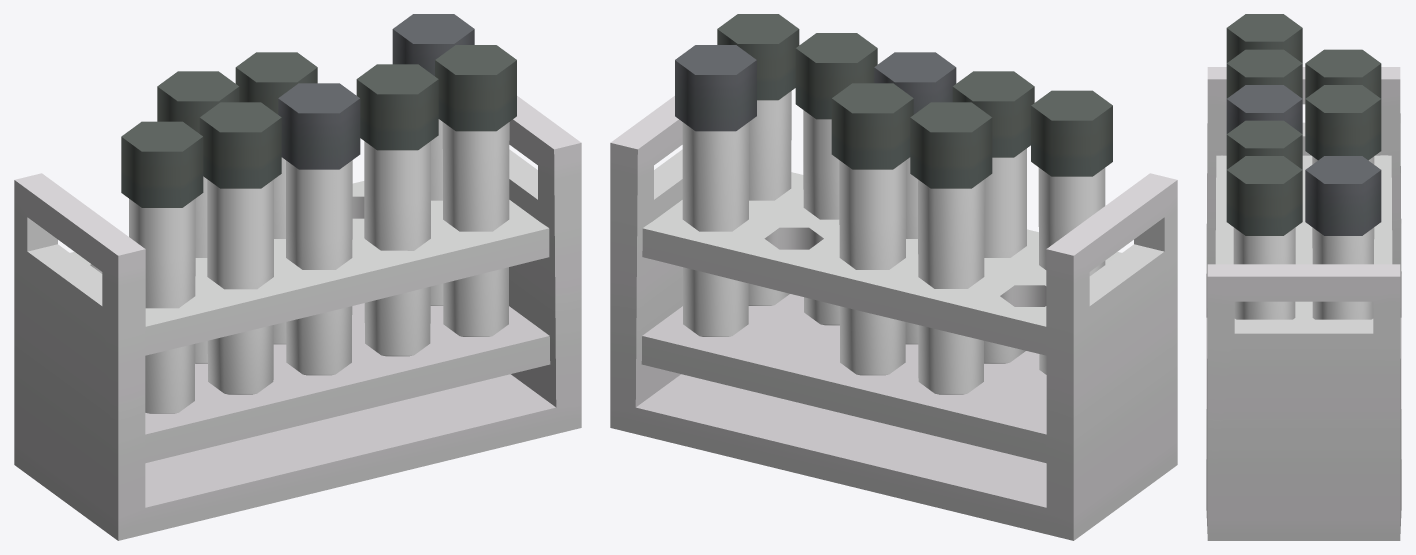
File: Pfb_JLAB_Probe_Rack__2.fbx
The picture shows the model from 3 angles, left to right: view 1: azimuth 30°, elevation 25°; view 2: azimuth 150°, elevation 25°; view 3: azimuth 270°, elevation 25°; orthographic projection. The views are drawn at different scales.
Parts seen in each view (by area): view 1: Color_02, Glass; view 2: Color_02, Glass; view 3: Color_02, Glass.
Boxes of the visible parts, x1,y1,x2,y2 form: Color_02: (14,14,581,540); Glass: (129,119,509,413); Color_02: (610,14,1177,540); Glass: (682,91,1105,394); Color_02: (1206,14,1401,540); Glass: (1233,156,1374,319).
Bounding box in the file's own units: 0.4735 × 0.3529 × 0.1855.
Materials: 2 (2 with a texture image).
